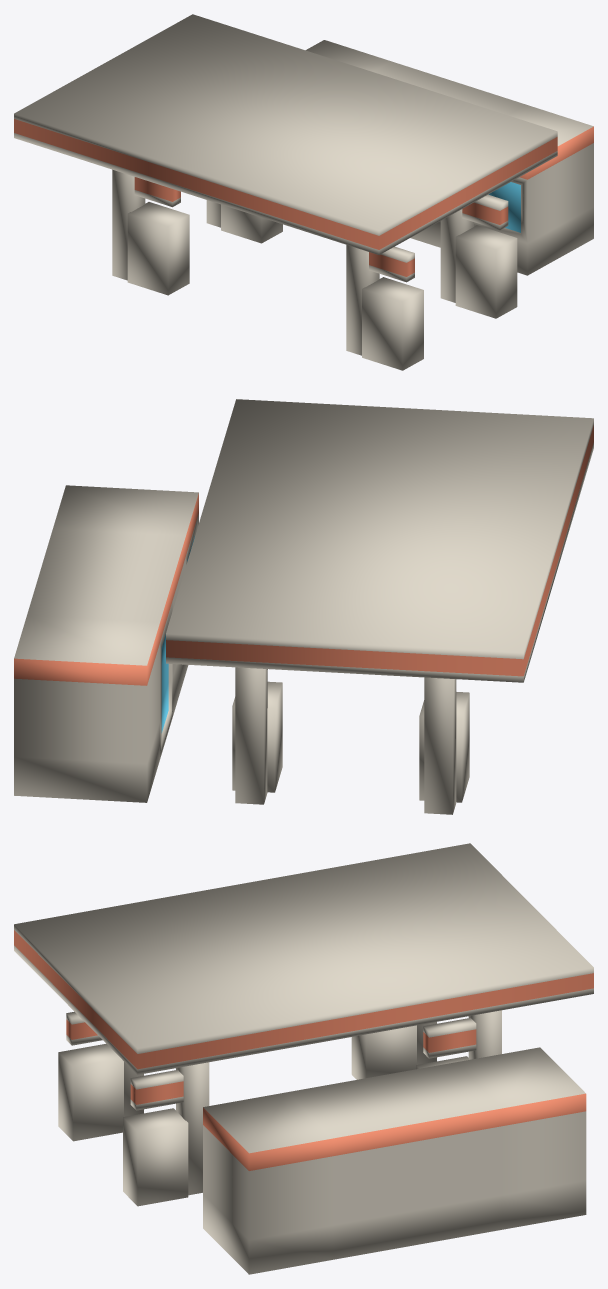
Rendered from 064_ガソスタ.glb.
The picture shows the model from 3 angles, top to bottom: view 1: azimuth 30°, elevation 25°; view 2: azimuth 150°, elevation 25°; view 3: azimuth 270°, elevation 25°; orthographic projection. The views are drawn at different scales.
Parts seen in each view (by area): view 1: 立方体073, 立方体073_3, 立方体073_1, 立方体073_2; view 2: 立方体073, 立方体073_1, 立方体073_3, 立方体073_2; view 3: 立方体073, 立方体073_1, 立方体073_3.
Part boxes in pixels (x1,y1,x2,y2): 立方体073: (14,14,593,355); 立方体073_3: (127,202,517,370); 立方体073_1: (14,119,593,276); 立方体073_2: (488,182,520,232); 立方体073: (14,399,593,814); 立方体073_1: (14,425,593,685); 立方体073_3: (232,681,469,802); 立方体073_2: (161,536,194,732); 立方体073: (14,843,593,1274); 立方体073_1: (14,930,593,1170); 立方体073_3: (58,1025,469,1206).
Bounding box in the file's own units: 8.85 × 2.95 × 8.62.
